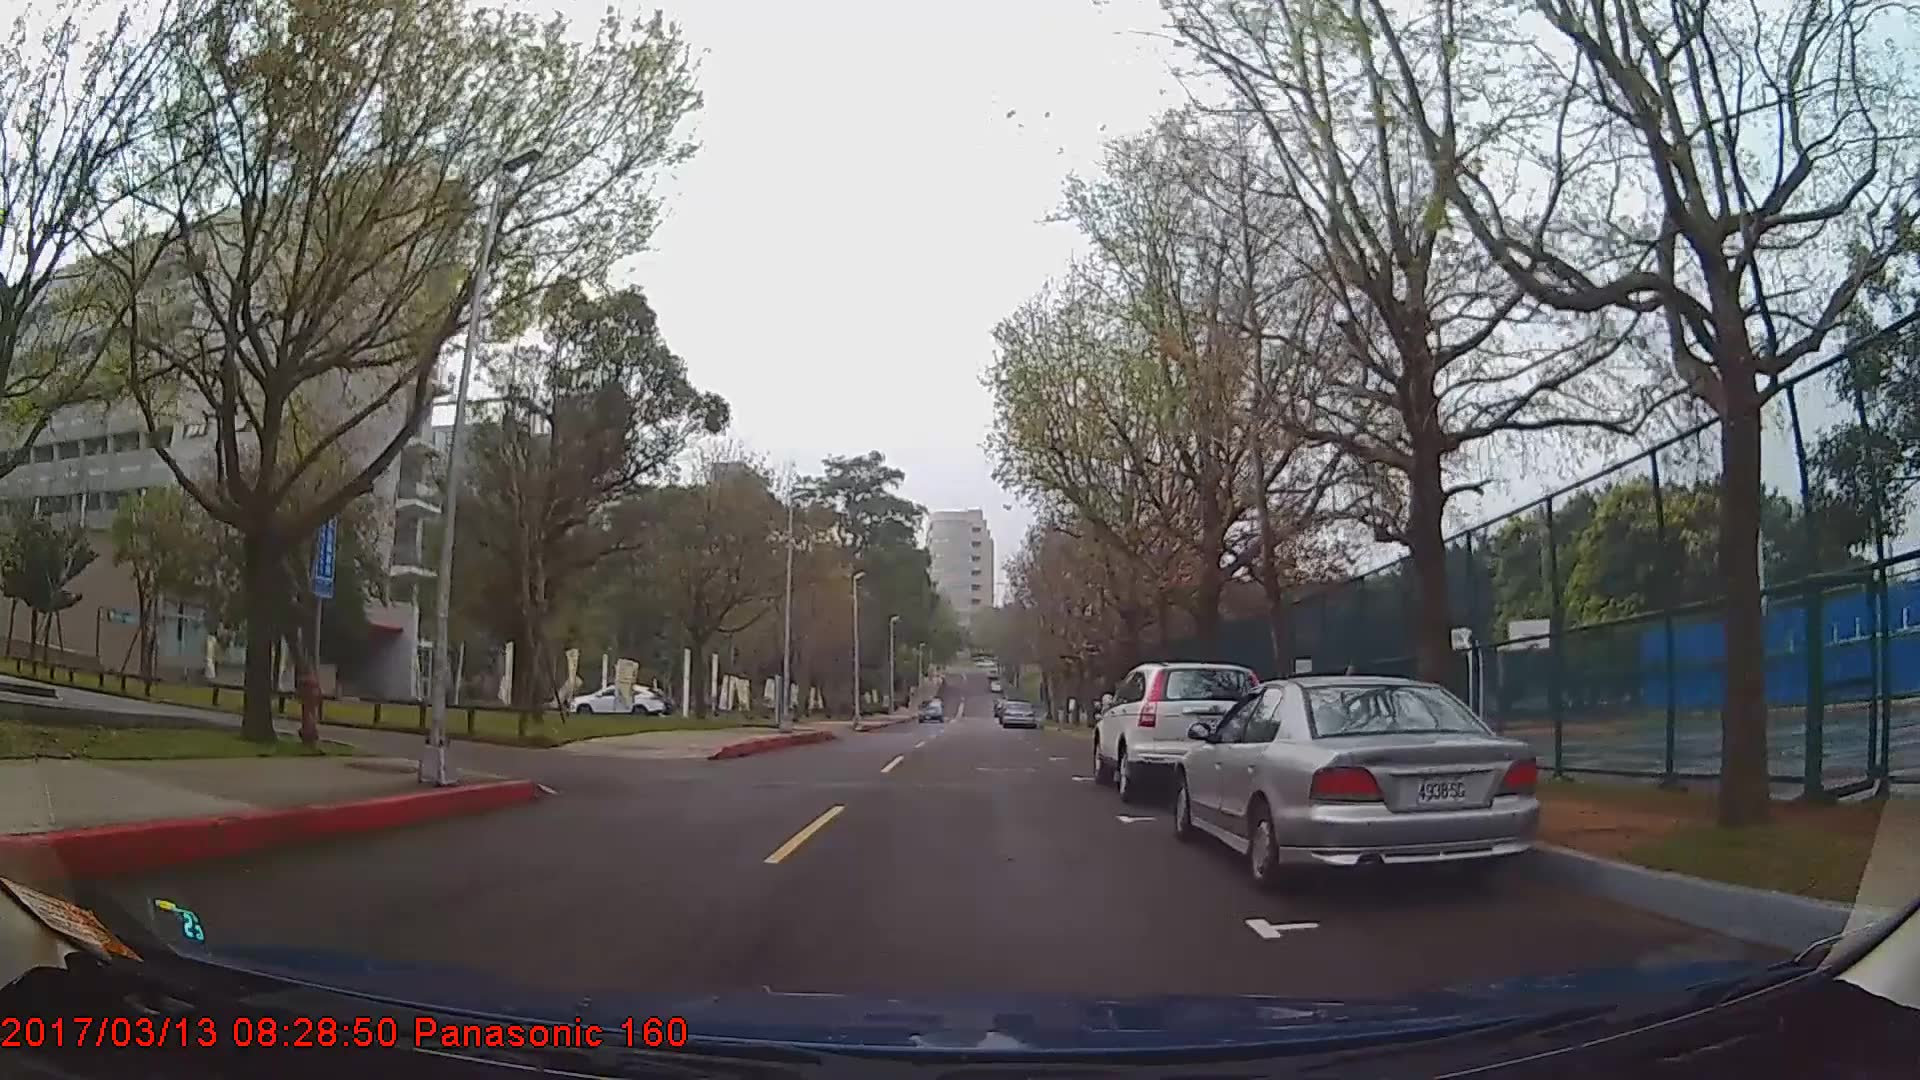vehicle: (1174, 676, 1542, 891), (1091, 662, 1269, 800), (570, 678, 669, 717), (997, 699, 1036, 731), (916, 694, 943, 723)
